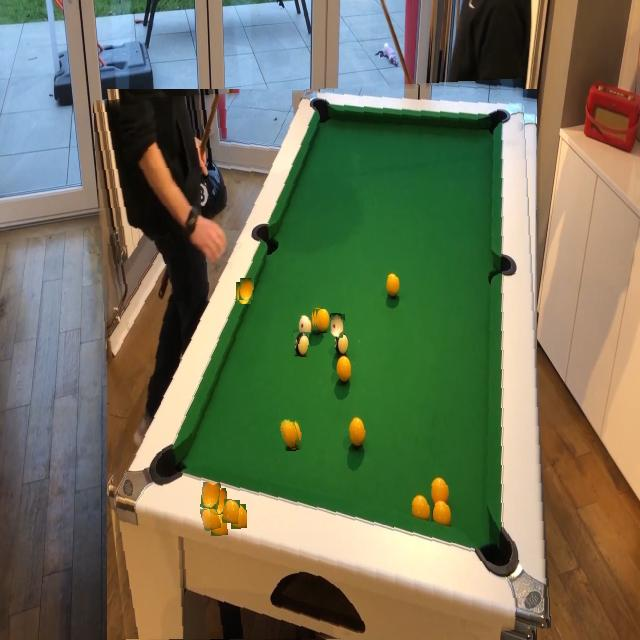Ball: (280, 418, 300, 450), (201, 483, 221, 509), (201, 506, 220, 531), (292, 357, 309, 384), (222, 500, 240, 524), (316, 309, 330, 333), (330, 314, 344, 338), (295, 332, 309, 356), (240, 278, 254, 300)
Billiard table: (99, 83, 544, 640)
